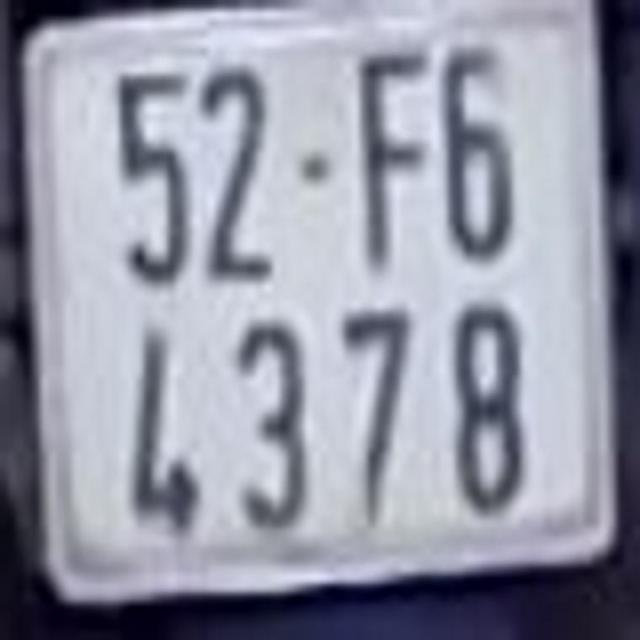2: (200, 61, 279, 290)
3: (231, 320, 310, 531)
4: (130, 322, 201, 553)
5: (114, 61, 196, 290)
6: (436, 41, 517, 265)
7: (335, 300, 411, 526)
8: (446, 294, 524, 528)
F: (353, 47, 431, 264)
